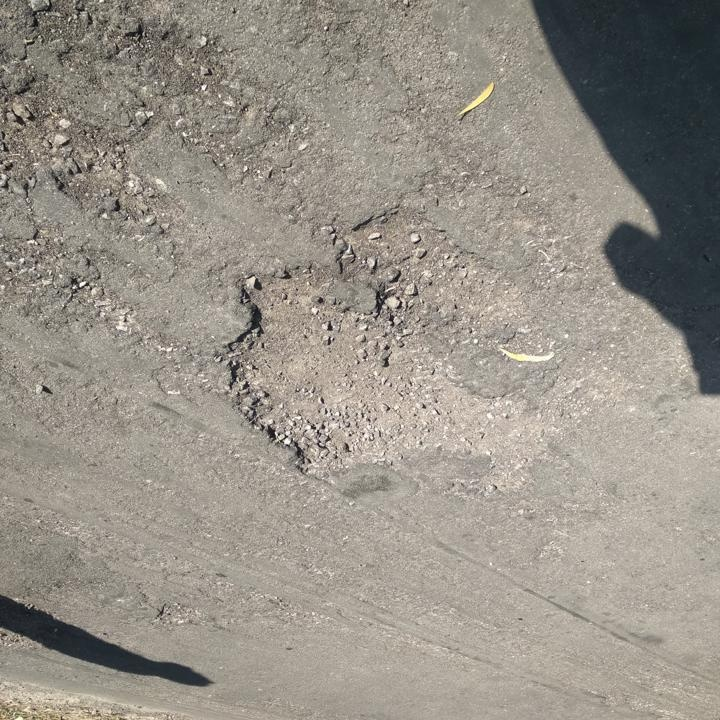pothole: (217, 204, 587, 497)
